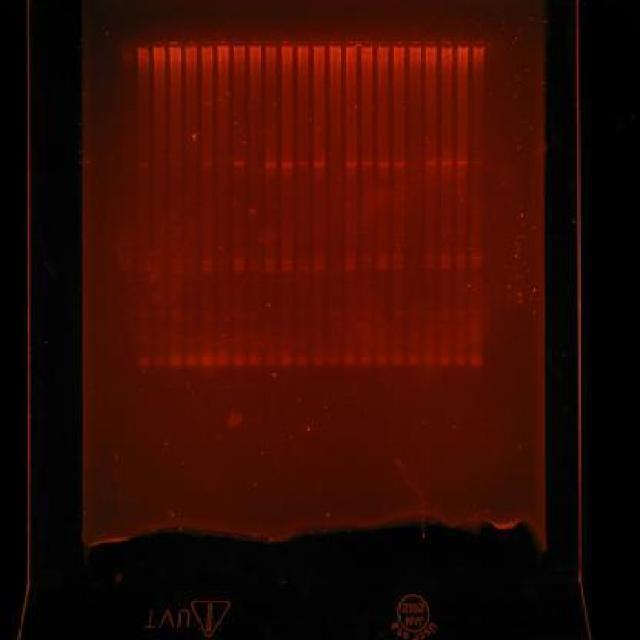B: (468, 353, 484, 369), (406, 351, 422, 367), (200, 353, 214, 370), (231, 354, 246, 369), (248, 353, 262, 369), (262, 354, 278, 368), (278, 354, 294, 368), (358, 352, 374, 366), (341, 352, 357, 366), (310, 352, 326, 366), (294, 353, 310, 367), (452, 352, 468, 366), (168, 354, 182, 369), (421, 353, 436, 367), (136, 356, 152, 369), (390, 352, 404, 366), (438, 352, 452, 366), (152, 355, 166, 368), (184, 356, 198, 369), (216, 356, 230, 369), (374, 354, 388, 366), (327, 354, 341, 366), (153, 308, 167, 320), (200, 308, 214, 320), (169, 308, 182, 320), (247, 309, 261, 320), (232, 264, 246, 274), (376, 262, 390, 272), (376, 228, 389, 238), (312, 264, 326, 273), (168, 258, 182, 267), (390, 308, 404, 317), (279, 231, 293, 240), (232, 231, 246, 240), (376, 254, 389, 263), (232, 310, 245, 319), (439, 227, 452, 236), (392, 159, 406, 167), (280, 160, 294, 168), (200, 265, 214, 273), (232, 258, 246, 266), (264, 258, 278, 266), (280, 258, 294, 266), (248, 258, 262, 266), (248, 265, 262, 273), (168, 266, 182, 274), (343, 256, 357, 264), (343, 264, 357, 272), (360, 255, 374, 263), (360, 263, 374, 271), (392, 262, 406, 270), (454, 254, 468, 262), (454, 262, 468, 270), (438, 262, 452, 270), (424, 262, 438, 270), (138, 258, 152, 266), (471, 157, 484, 165), (200, 258, 213, 266), (217, 264, 230, 272), (312, 257, 325, 265), (471, 262, 484, 270), (424, 255, 438, 262), (392, 228, 406, 235), (470, 254, 482, 262), (392, 255, 405, 262), (424, 160, 438, 166), (264, 162, 278, 168), (264, 266, 278, 272), (279, 266, 293, 272), (296, 264, 310, 270), (280, 172, 294, 178), (264, 171, 278, 177), (438, 256, 452, 262), (138, 266, 152, 272), (298, 258, 308, 266), (456, 160, 469, 166), (361, 160, 374, 166), (345, 161, 358, 167), (232, 161, 245, 167), (216, 258, 229, 264), (345, 171, 358, 177), (440, 160, 452, 166), (378, 161, 390, 167), (298, 160, 310, 166), (136, 162, 150, 167), (312, 162, 326, 166), (200, 162, 213, 166), (168, 162, 181, 165)
L: (117, 32, 490, 57)
Pc: (151, 39, 167, 53), (120, 38, 134, 52), (136, 39, 150, 53), (456, 38, 470, 52), (424, 39, 439, 52), (184, 39, 198, 52), (200, 38, 214, 51), (472, 39, 486, 52), (440, 39, 454, 52), (168, 39, 181, 52), (376, 39, 389, 52), (216, 39, 230, 50), (232, 39, 246, 50), (248, 39, 262, 50), (264, 39, 278, 50), (408, 39, 422, 50), (392, 39, 406, 50), (360, 39, 374, 50), (328, 39, 342, 50), (312, 39, 326, 50), (296, 38, 310, 48), (280, 38, 294, 48), (345, 38, 358, 48)
